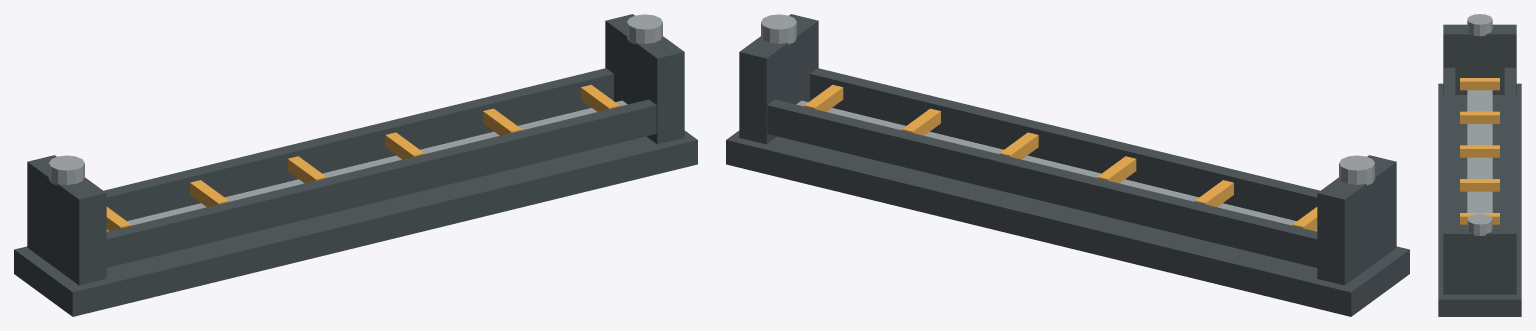
File: lab_fixture_rail.glb
The picture shows the model from 3 angles, left to right: view 1: azimuth 30°, elevation 25°; view 2: azimuth 150°, elevation 25°; view 3: azimuth 270°, elevation 25°; orthographic projection. The views are drawn at different scales.
Visible parts, largest first — view 1: lab_fixture_rail; view 2: lab_fixture_rail; view 3: lab_fixture_rail.
Part boxes in pixels (x1=…): lab_fixture_rail: x1=14, y1=14, x2=697, y2=316; lab_fixture_rail: x1=726, y1=14, x2=1409, y2=316; lab_fixture_rail: x1=1438, y1=14, x2=1521, y2=316.
Bounding box in the file's own units: 3.2 × 0.62 × 0.52.
